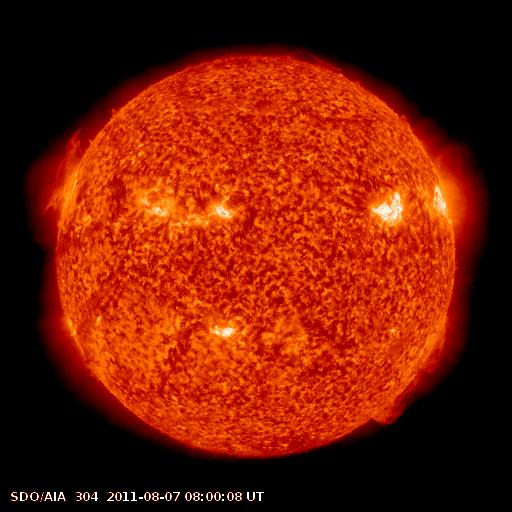prominence: (359, 314, 453, 429), (32, 122, 102, 217), (277, 43, 346, 76)
